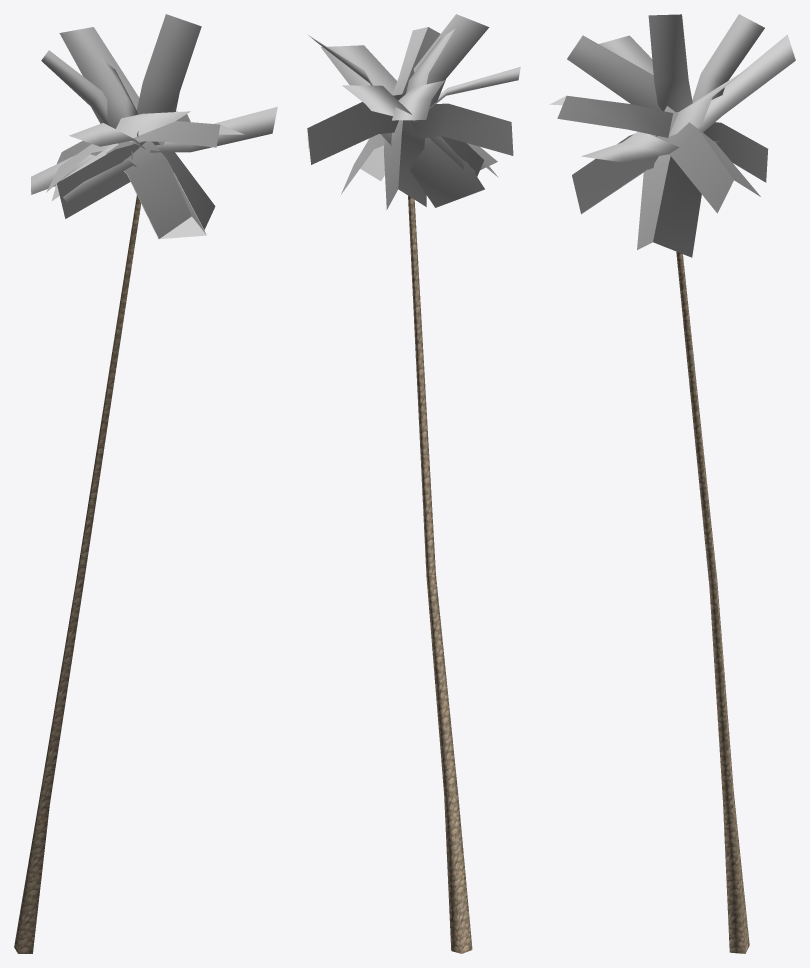
The model's file is PalmTree4.FBX.
3 renders of one model, left to right at view 1: azimuth 30°, elevation 25°; view 2: azimuth 150°, elevation 25°; view 3: azimuth 270°, elevation 25°, orthographic. The views are drawn at different scales.
Visible parts, largest first — view 1: PalmTree4__6_; view 2: PalmTree4__6_; view 3: PalmTree4__6_.
Boxes of the visible parts, <box> form: PalmTree4__6_: <box>14,14,277,953</box>; PalmTree4__6_: <box>307,14,520,953</box>; PalmTree4__6_: <box>549,14,795,953</box>.
Bounding box in the file's own units: 65.61 × 263 × 61.29.
